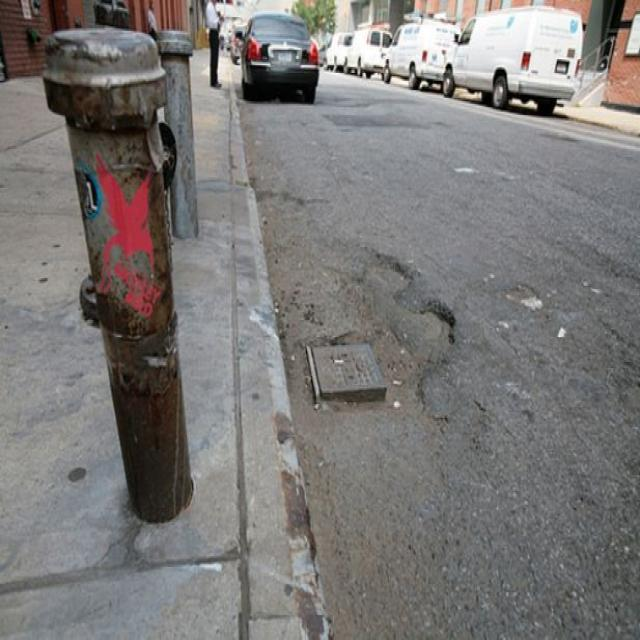pothole: (367, 238, 462, 436)
